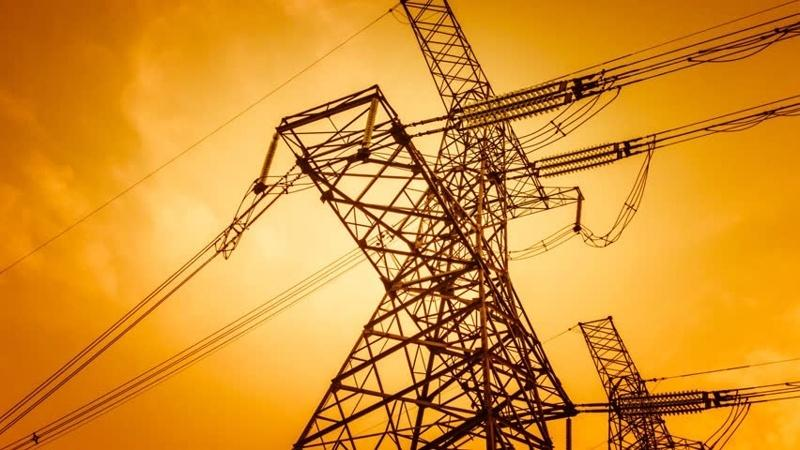power_tower: (224, 30, 595, 442)
